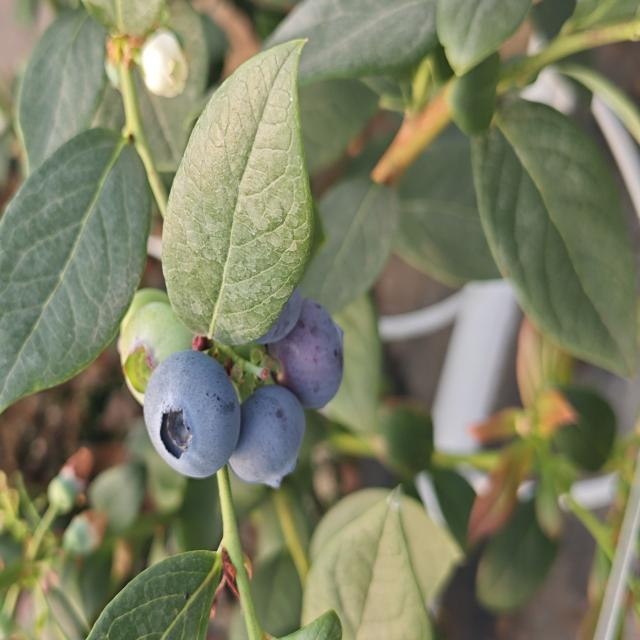ripe: (141, 348, 242, 482), (267, 296, 346, 412), (227, 382, 307, 491)
